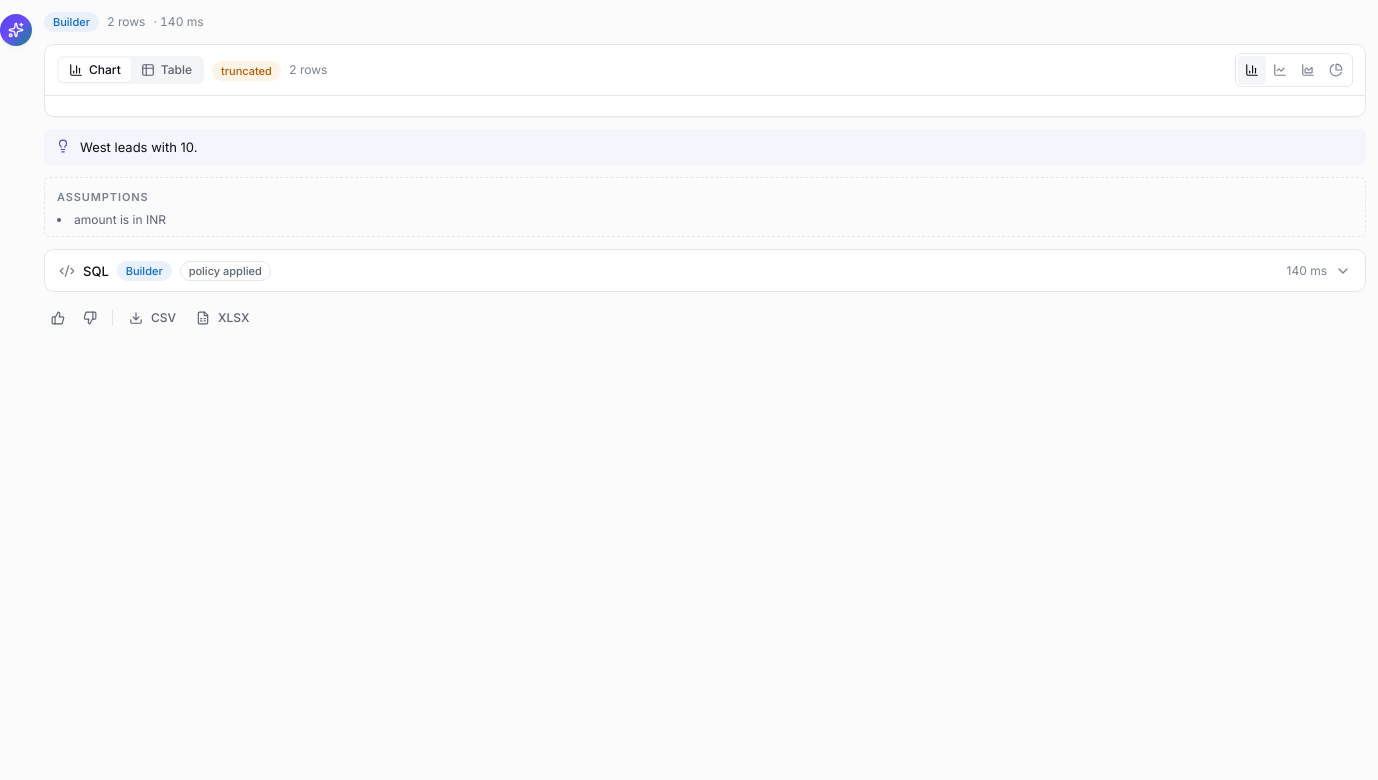
Test case: AnswerCard › renders a result as a chart with a table toggle, insights, assumptions and the SQL panel
Expected: the text "truncated" is shown, left=212, top=61, right=281, bottom=81
Expected: the text "West leads with 10." is shown, left=80, top=137, right=197, bottom=157
Click the tab "Table" at (166, 70), box left=131, top=58, right=202, bottom=82
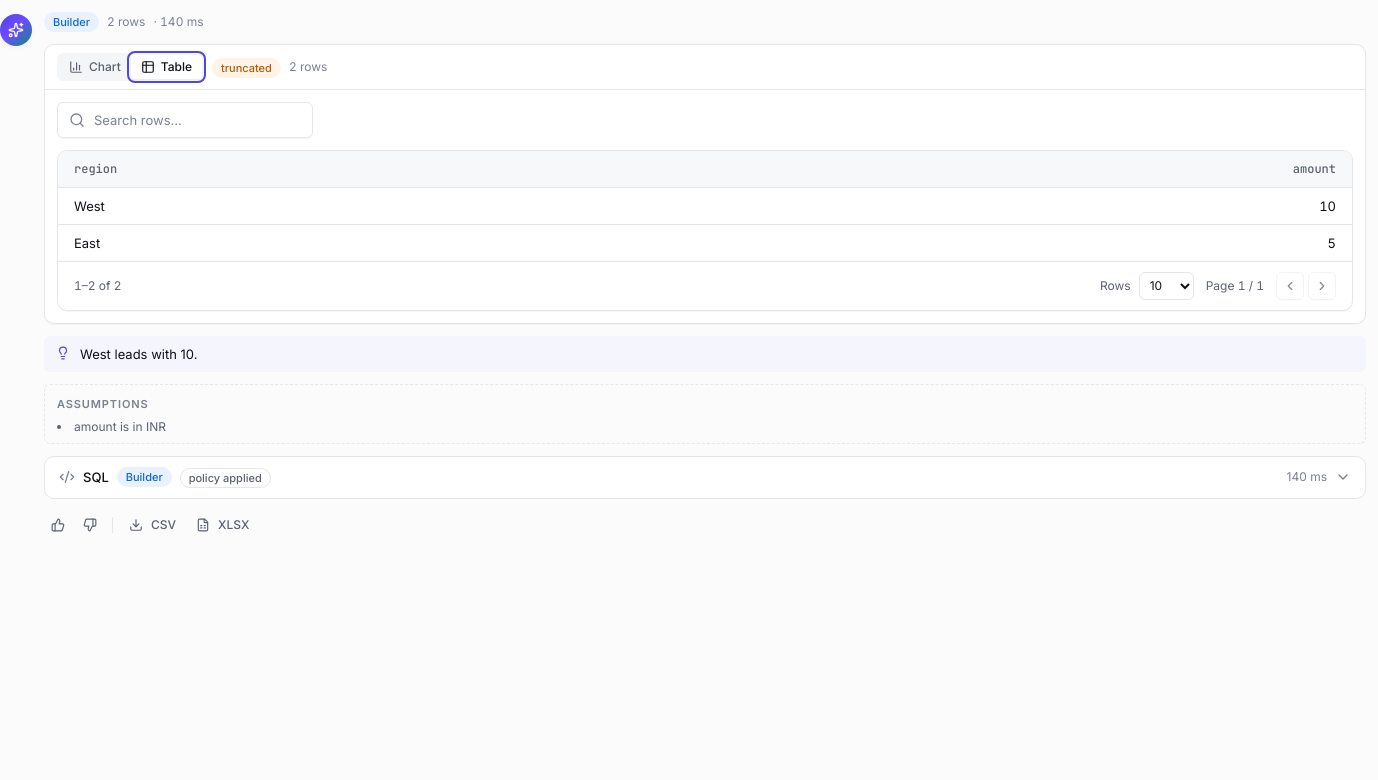
Expected: the text "West" is shown, left=74, top=198, right=105, bottom=214
// SQL transparency panel: collapsed by default, shows the executed SQL and an editor link when opened.
Click the button "SQL Builder policy applied 140 ms" at (144, 477), box left=45, top=456, right=1365, bottom=498
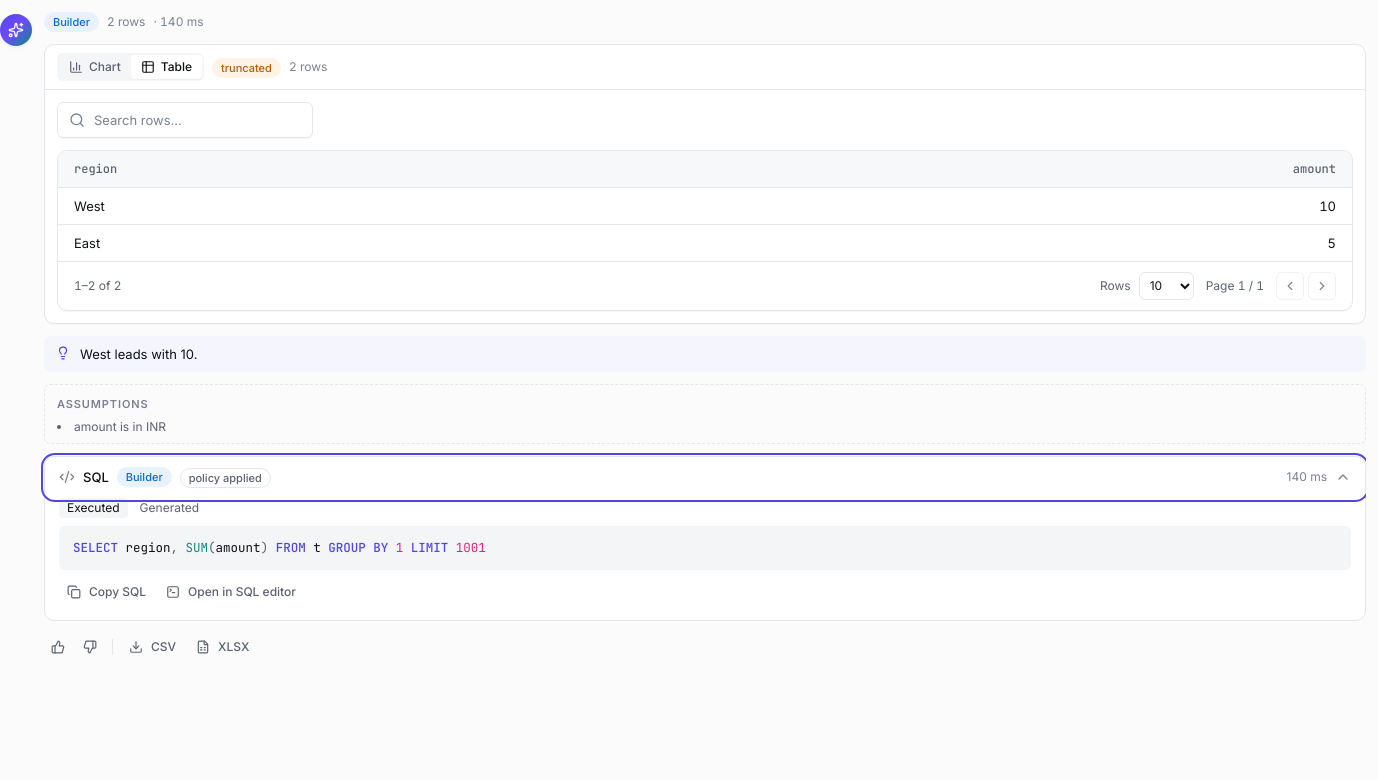
Expected: the button named "Mark answer as correct" is shown, left=44, top=632, right=72, bottom=660
Expected: the text "LIMIT" is shown, left=411, top=538, right=448, bottom=556
